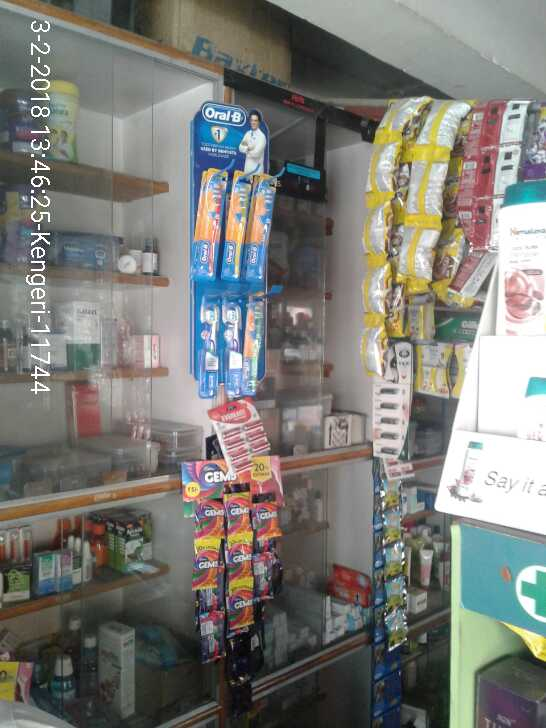oralb: (237, 280, 266, 401), (188, 171, 223, 271), (249, 176, 279, 287), (220, 164, 246, 279), (198, 297, 217, 392), (224, 290, 240, 394)
